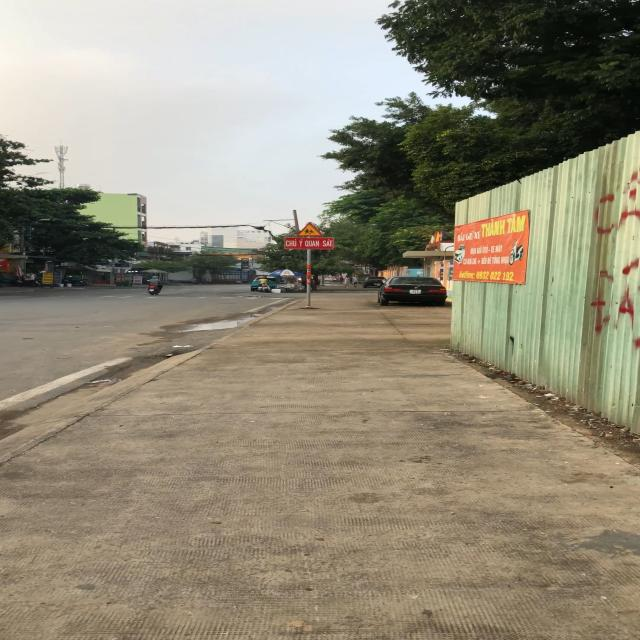Bien bao tre em: (294, 221, 324, 237)
